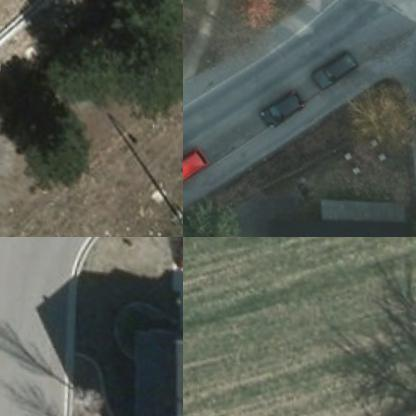car: (308, 42, 361, 92), (253, 86, 307, 129), (183, 138, 211, 200), (173, 237, 182, 275)
